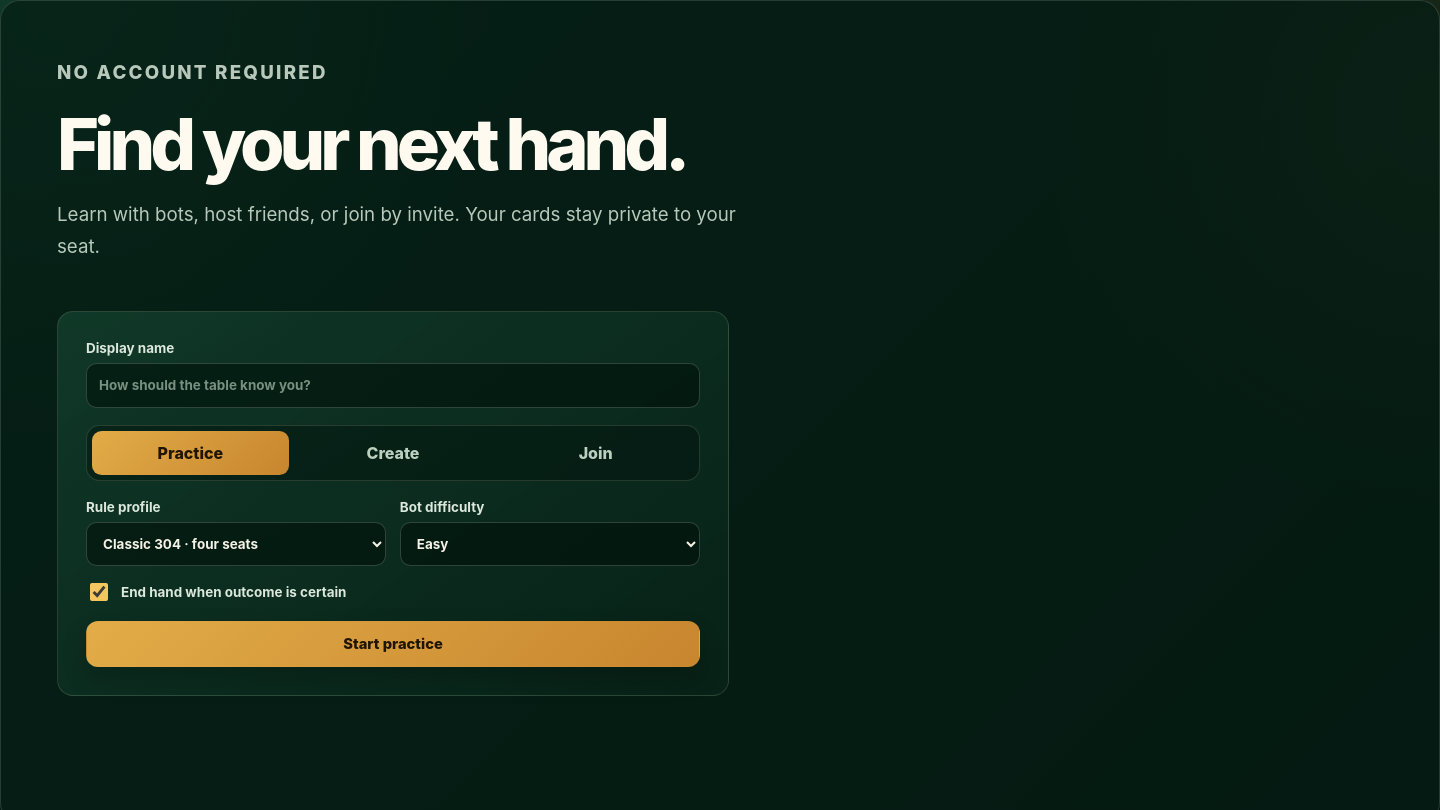
Scenario: EntryFlow › announces a known safe service error without exposing protocol details
This screenshot has width=1440, height=810.
Type "Asha" into the field labelled "Display name" at {"x": 393, "y": 385}, box [86, 363, 700, 408]
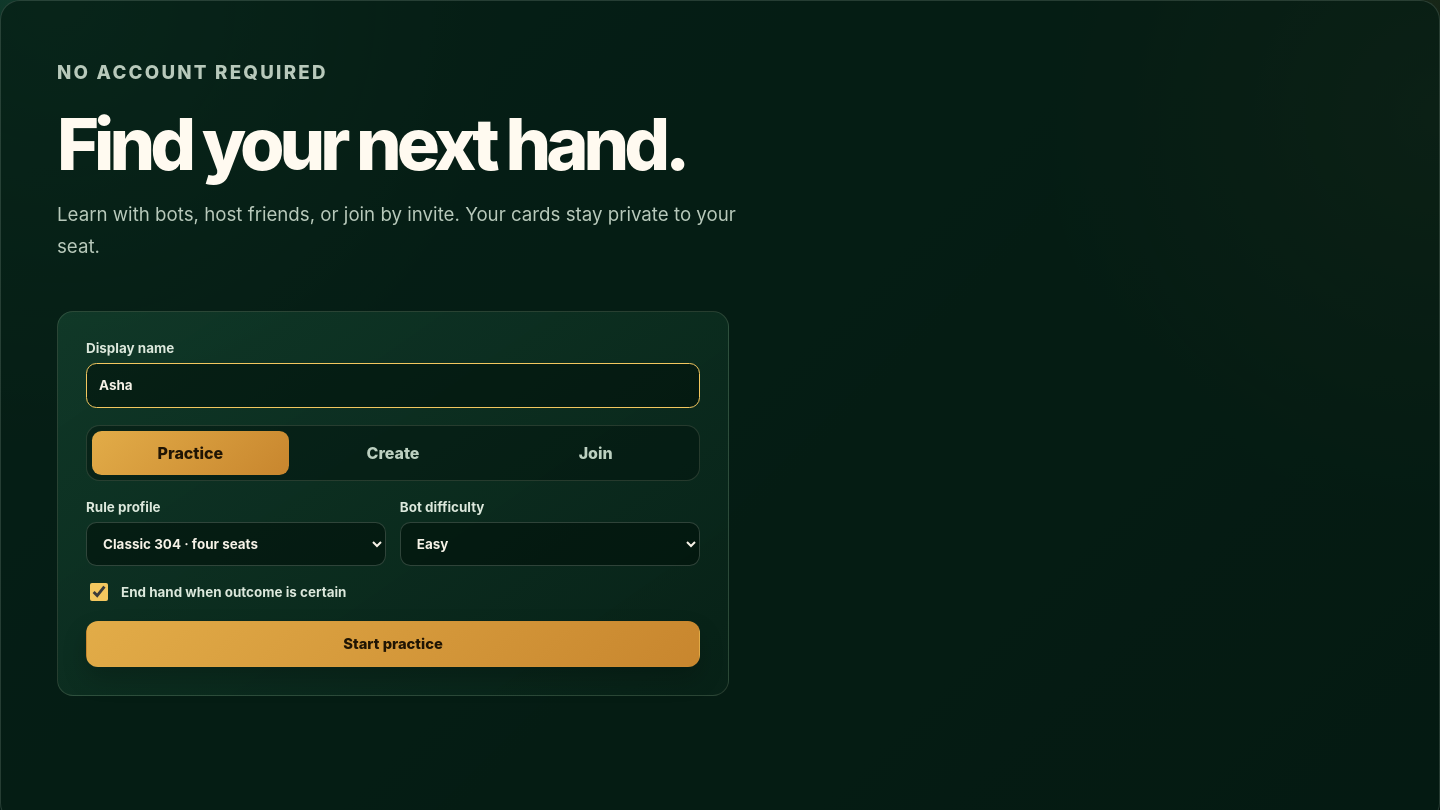
Click the button "Start practice" at {"x": 393, "y": 644}, box [86, 621, 700, 667]
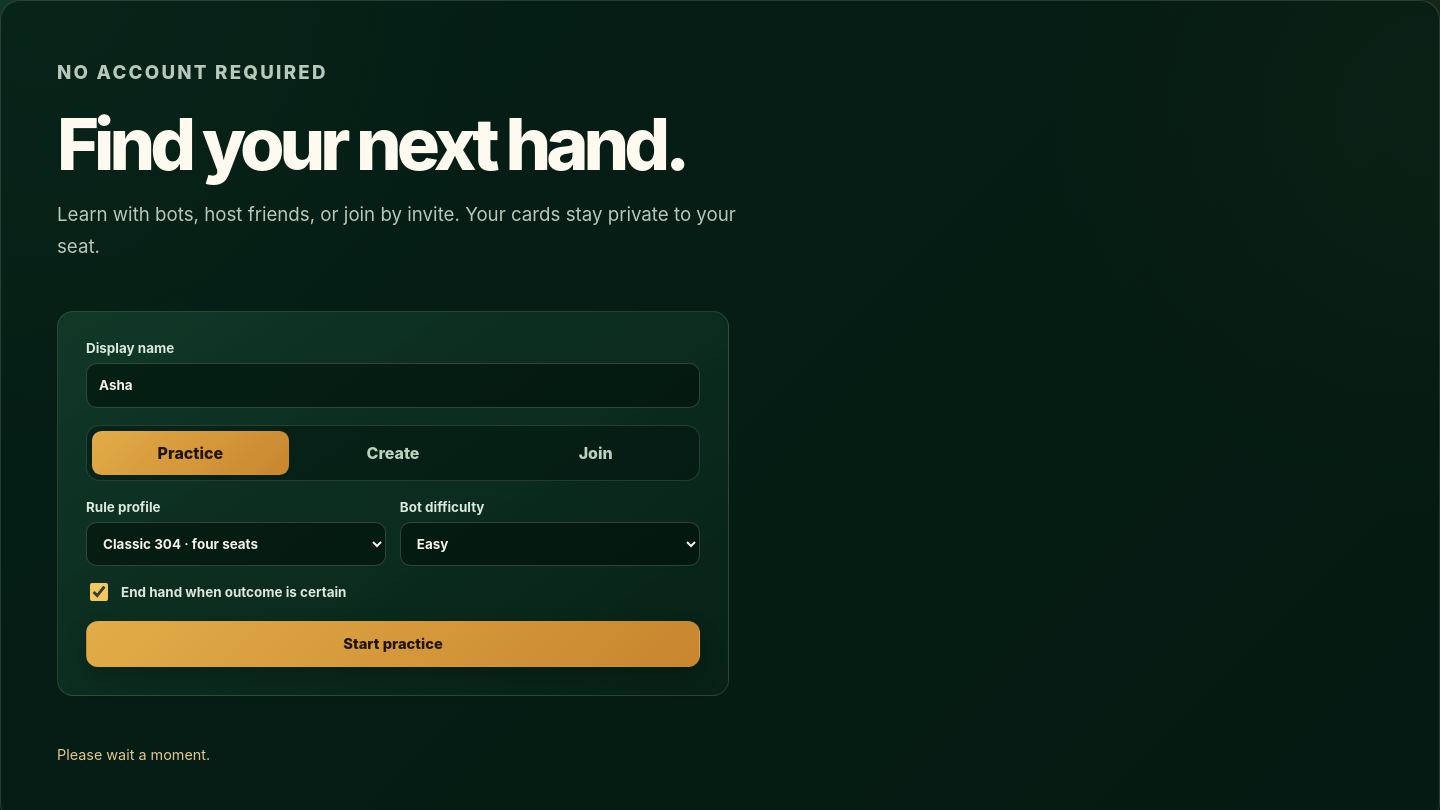
Expected: the message reads "Please wait a moment.", [57, 746, 210, 763]
